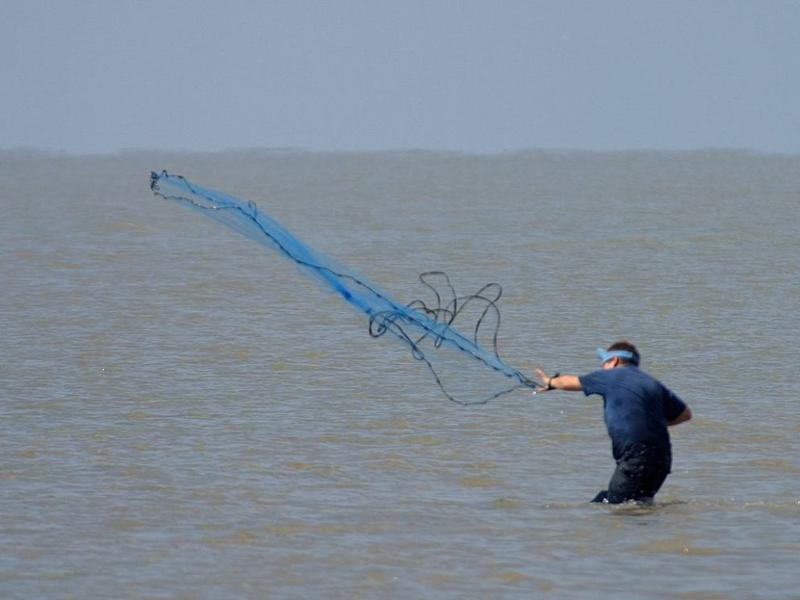person: (534, 341, 693, 505)
